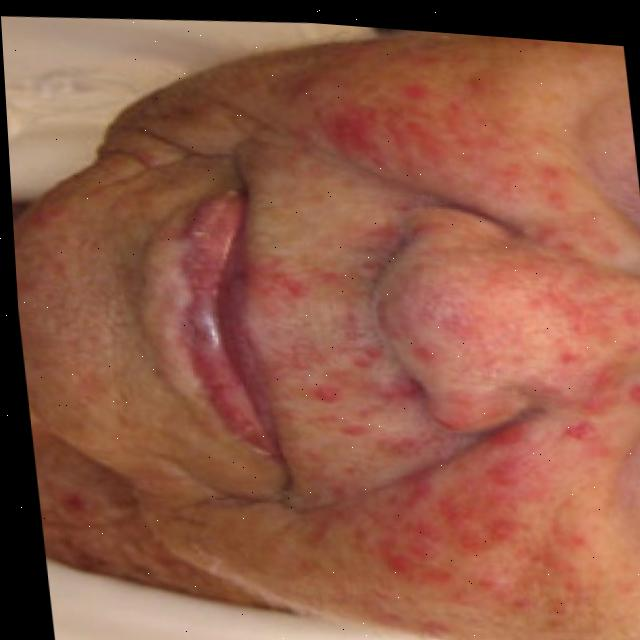Rosacea: (259, 47, 640, 625)
